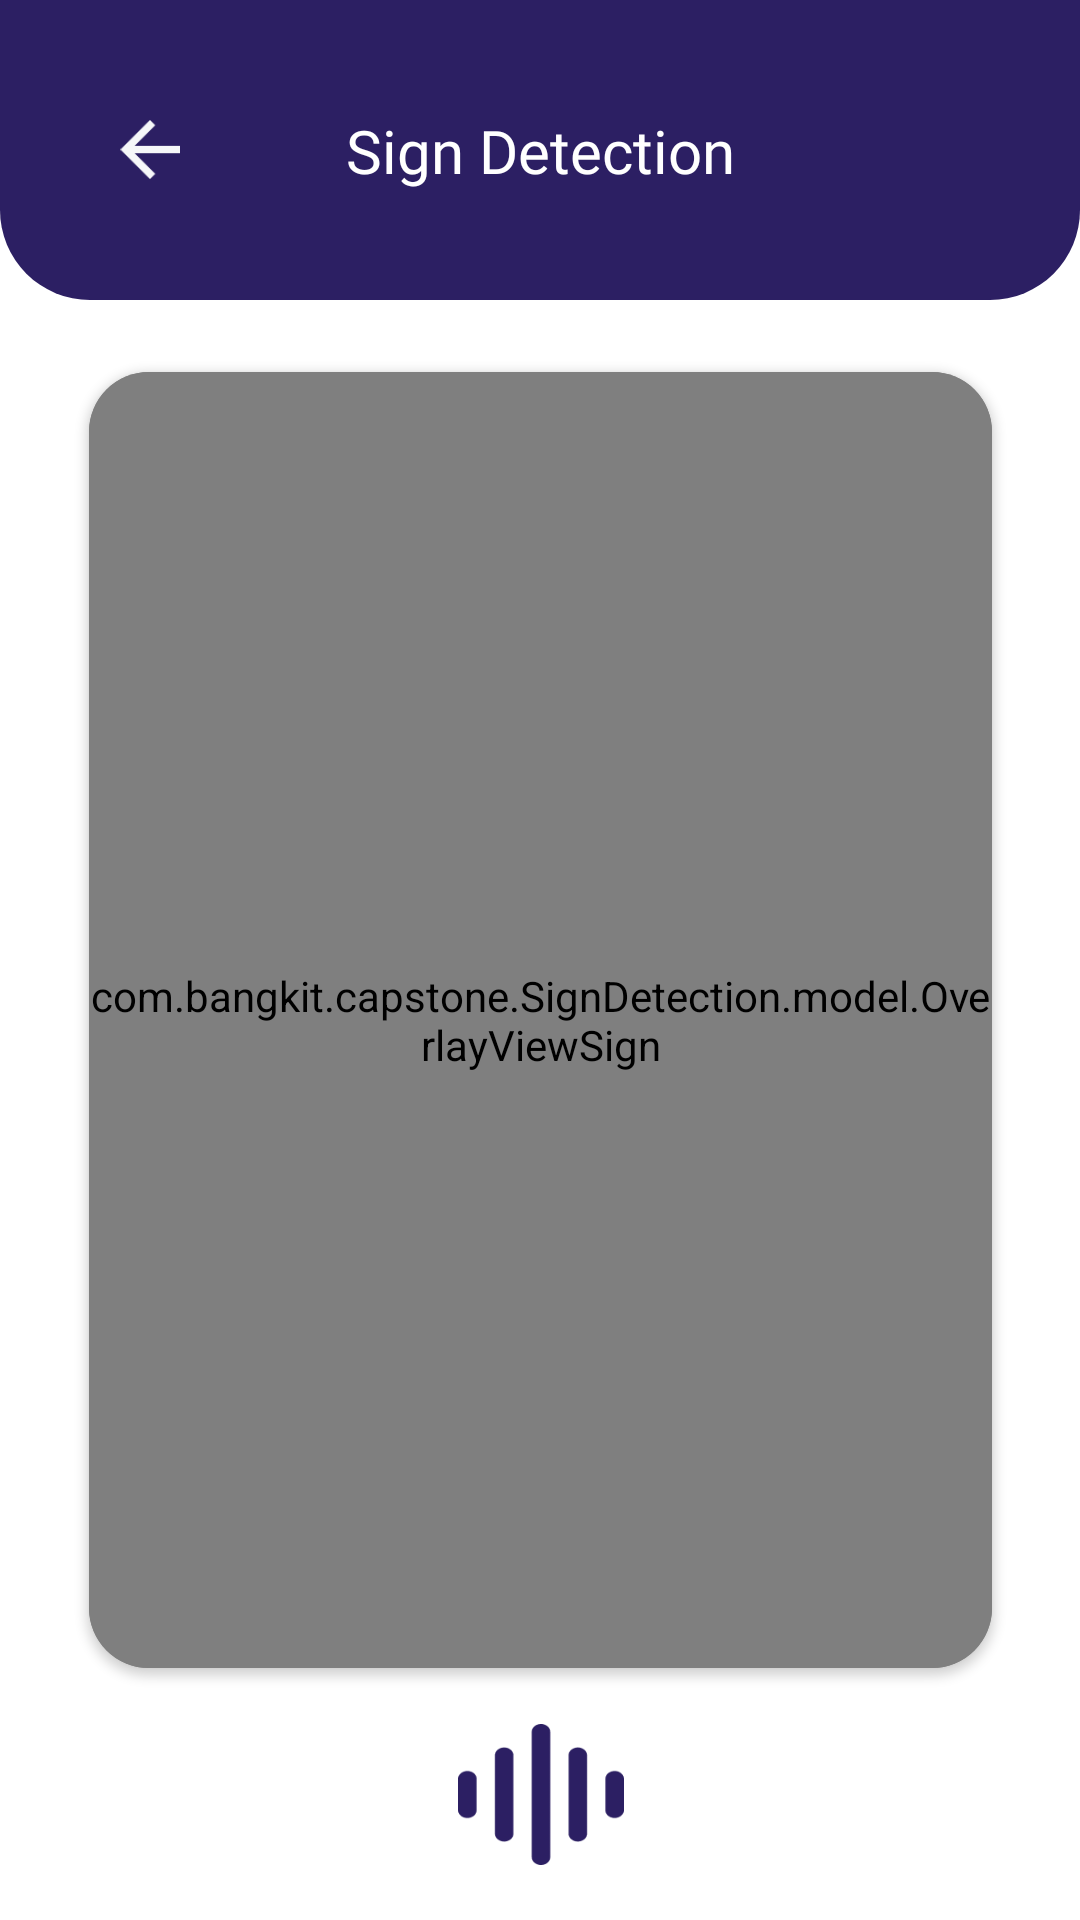

Icon bounding boxes for this 1080*1920 phone screenshot, format [x1,y1,x2,y2]:
audio: [458,1724,624,1865]
back: [120,120,180,179]
